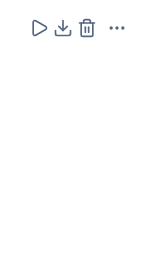
Test: WorkflowRowActions › shows Activate for inactive workflows
The image size is (145, 256).
Click the button named "More actions for Nightly sync". click: (117,28)
box: [101, 12, 133, 44]
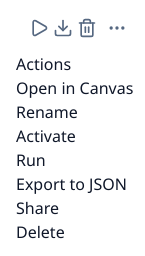
expect the menu item "Activate" is shown: met, box [16, 125, 76, 147]
